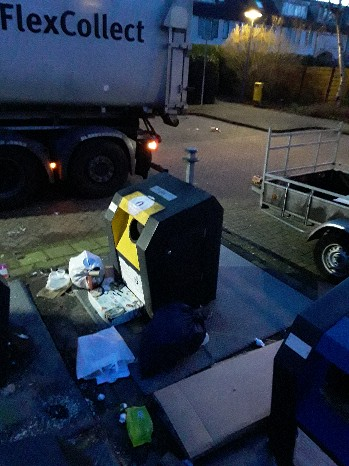Container: (117, 175, 229, 298)
Rest: (71, 328, 152, 406), (149, 306, 205, 369), (79, 274, 136, 326), (74, 257, 101, 278)
Voertuig: (7, 5, 175, 175)
